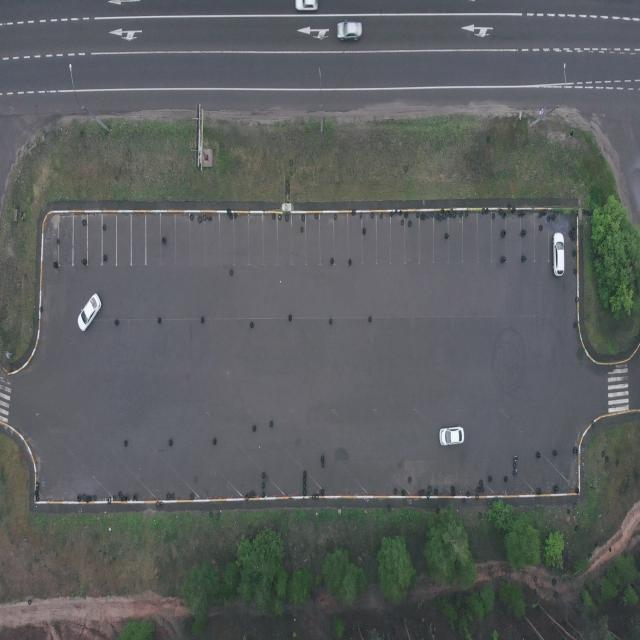vehicle: (77, 292, 101, 330), (553, 232, 565, 276), (337, 20, 362, 40), (440, 426, 464, 445), (295, 0, 318, 12)
